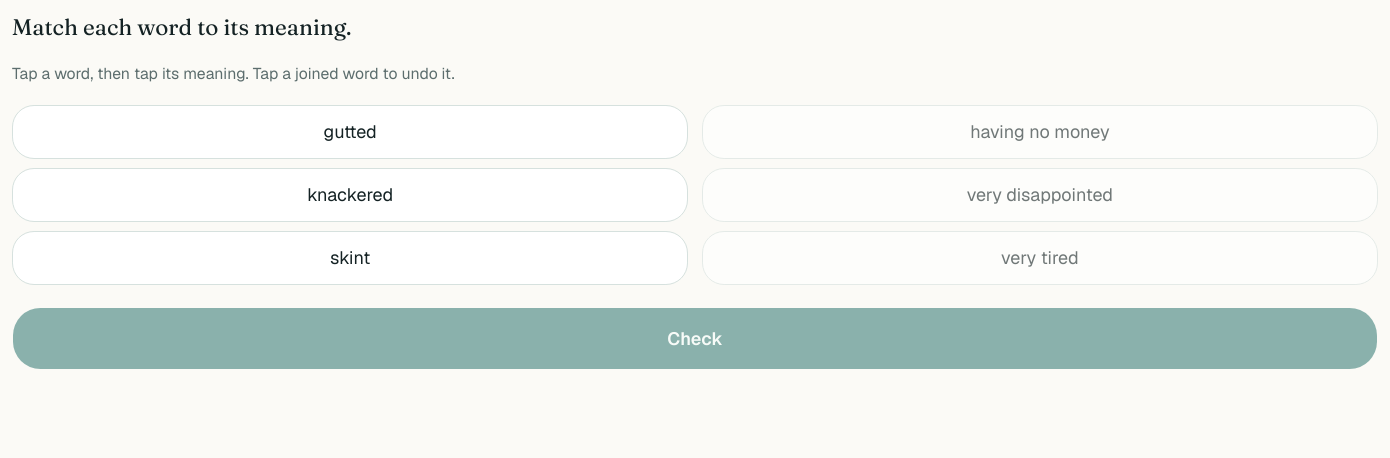
Test case: match_pairs on the wrong path › never claims an answer it cannot produce
Step 1. Click the button "skint" → {"x": 350, "y": 258}, box [12, 230, 688, 284]
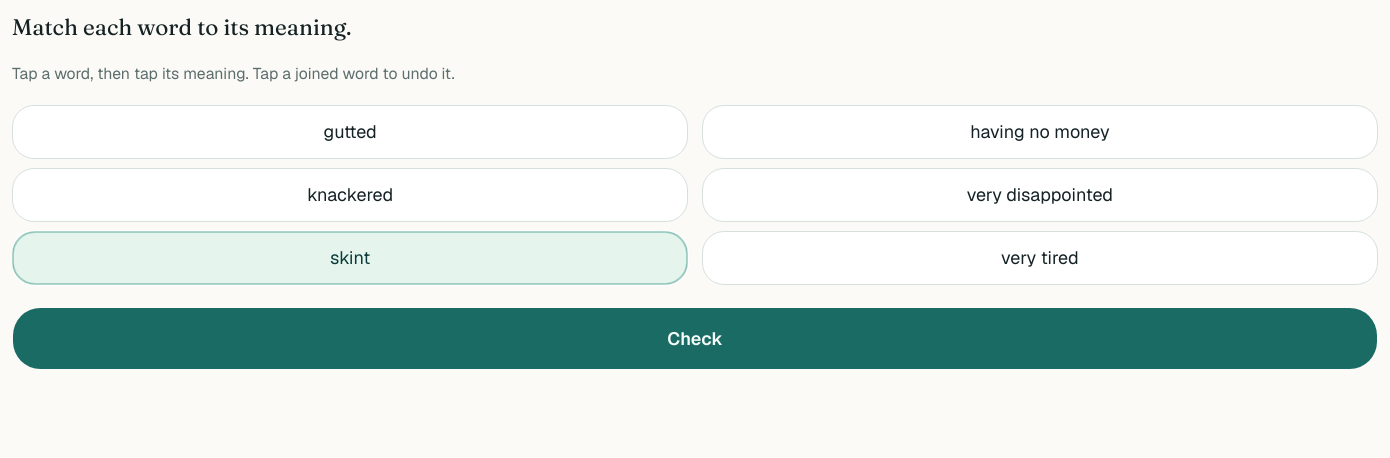
Step 2. Click the button "very tired" → {"x": 1040, "y": 258}, box [702, 230, 1378, 284]
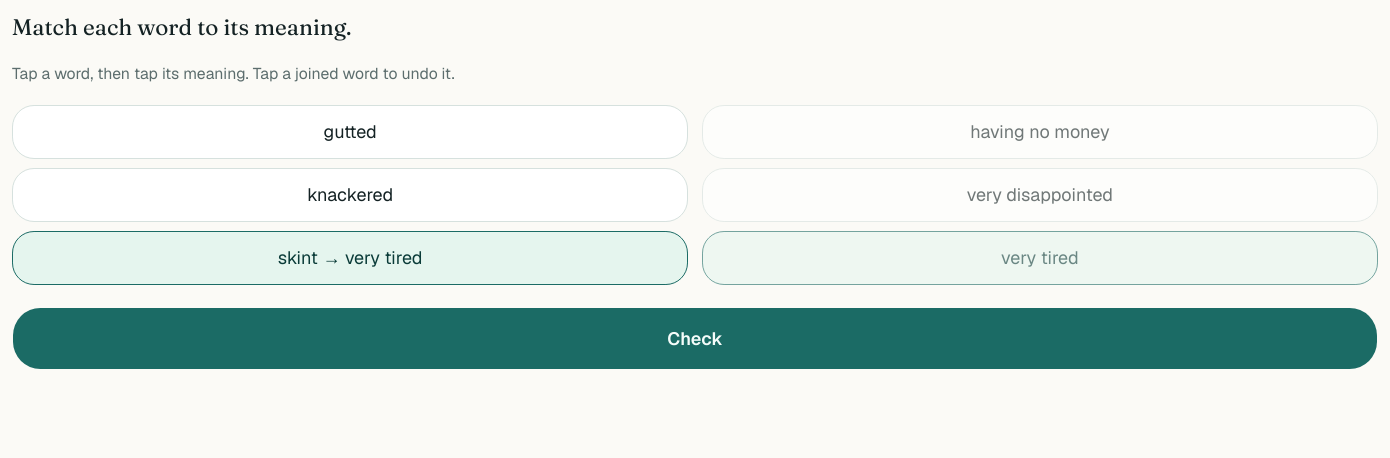
Step 3. Click the button "Check" → {"x": 695, "y": 338}, box [12, 307, 1378, 370]
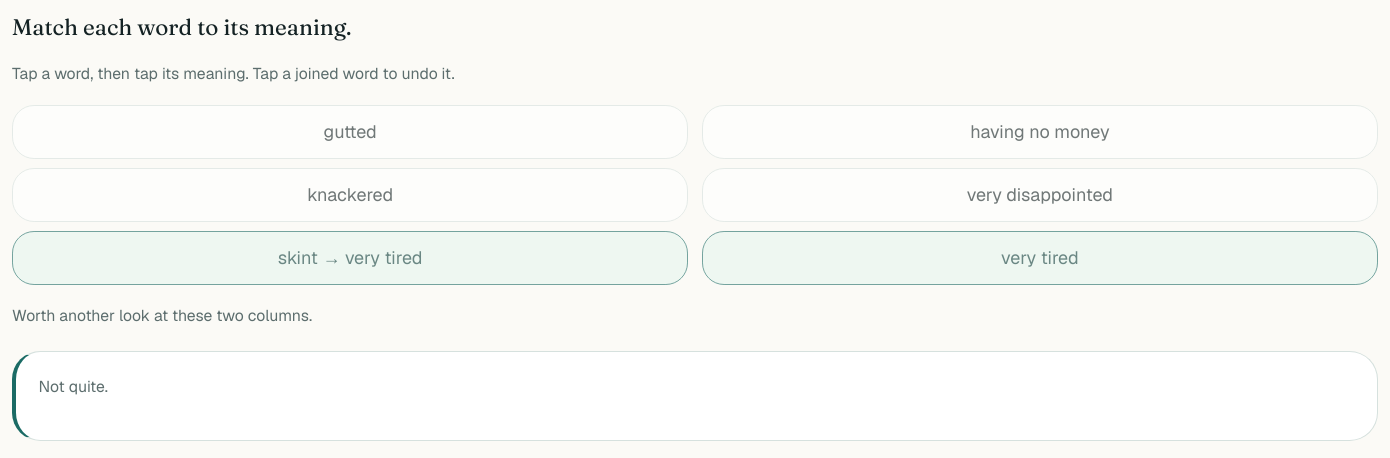
Check: the text "Worth another look at these two columns." is shown, box [12, 304, 312, 326]
